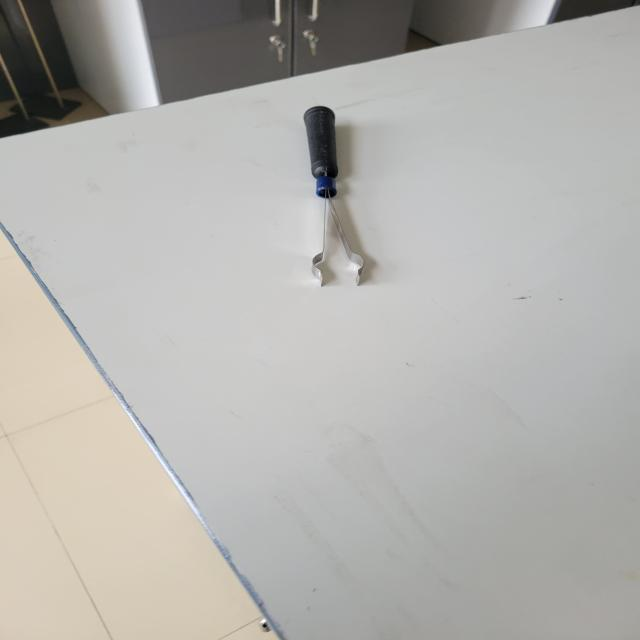TestTube_Holder: (259, 67, 421, 319)
